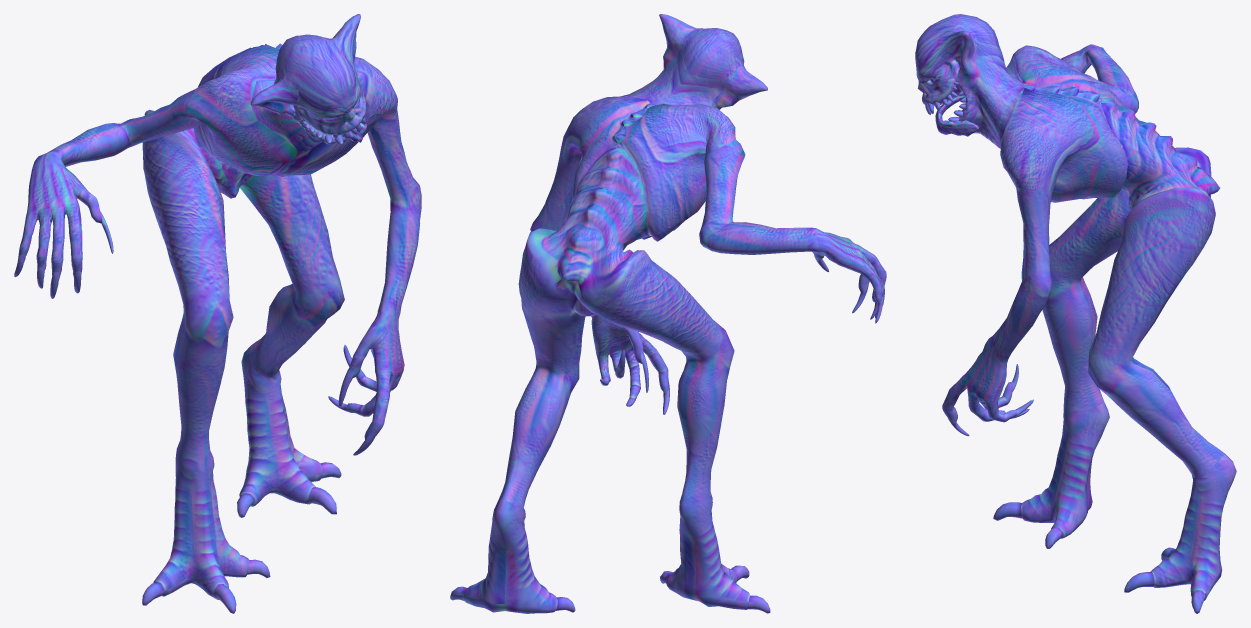
Rendered from vurdalak_low.obj.
3 views of the same model, side by side, from view 1: azimuth 30°, elevation 25°; view 2: azimuth 150°, elevation 25°; view 3: azimuth 270°, elevation 25° (orthographic). The views are drawn at different scales.
Parts seen in each view (by area): view 1: body_low_Plane; view 2: body_low_Plane; view 3: body_low_Plane, tongue_low_Plane.004.
Part boxes in pixels (bbox=[...]): body_low_Plane: bbox=[14, 14, 421, 613]; body_low_Plane: bbox=[450, 14, 886, 613]; body_low_Plane: bbox=[915, 14, 1236, 613]; tongue_low_Plane.004: bbox=[935, 95, 979, 136].
Size of the model in its own units: 1.25 by 1.75 by 0.946.
1 material, 1 textured.
